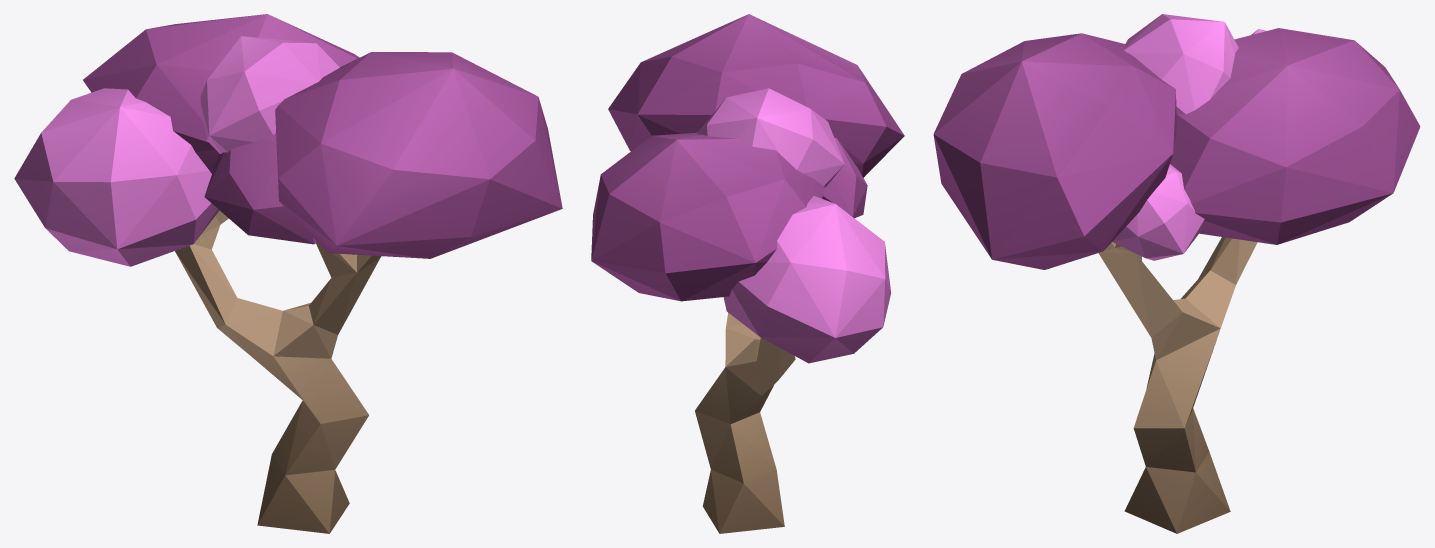
The model's file is SpringTree2.fbx.
3 renders of one model, left to right at view 1: azimuth 30°, elevation 25°; view 2: azimuth 150°, elevation 25°; view 3: azimuth 270°, elevation 25°, orthographic. The views are drawn at different scales.
Parts seen in each view (by area): view 1: SpringTree2; view 2: SpringTree2; view 3: SpringTree2.
Part boxes in pixels (left/top/right/bottom): SpringTree2: left=14, top=14, right=562, bottom=533; SpringTree2: left=591, top=14, right=904, bottom=533; SpringTree2: left=933, top=14, right=1420, bottom=533.
Size of the model in its own units: 404 by 463 by 421.
